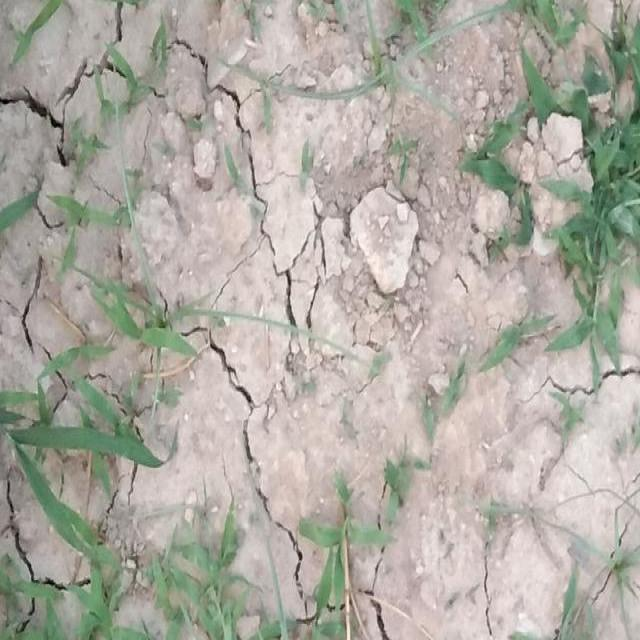weed: (8, 172, 187, 432), (530, 65, 640, 380), (0, 417, 150, 560), (228, 14, 546, 78), (144, 545, 338, 640), (510, 522, 640, 640), (8, 15, 62, 58)
